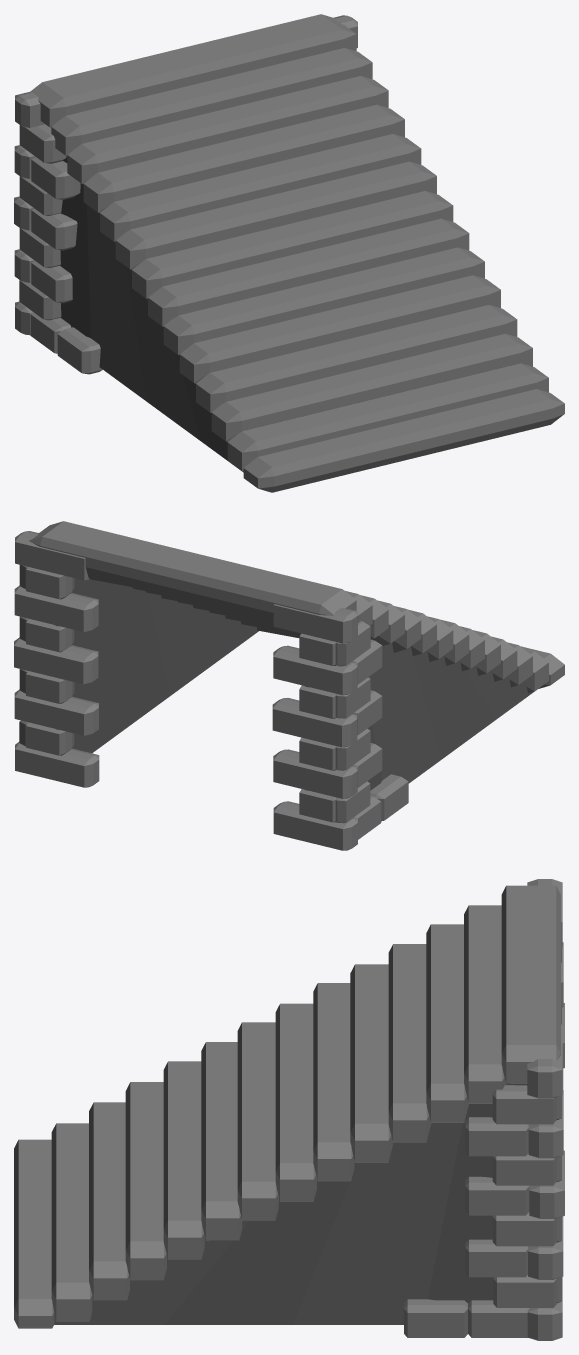
Rendered from DungeonStairs.fbx.
3 renders of one model, top to bottom at view 1: azimuth 30°, elevation 25°; view 2: azimuth 150°, elevation 25°; view 3: azimuth 270°, elevation 25°, orthographic. The views are drawn at different scales.
Parts seen in each view (by area): view 1: DungeonStairs; view 2: DungeonStairs; view 3: DungeonStairs.
Boxes of the visible parts, x1,y1,x2,y2 form: DungeonStairs: (14,14,564,492); DungeonStairs: (14,521,564,850); DungeonStairs: (14,879,564,1340).
Bounding box in the file's own units: 561 × 385 × 679.
1 material, 1 textured.
